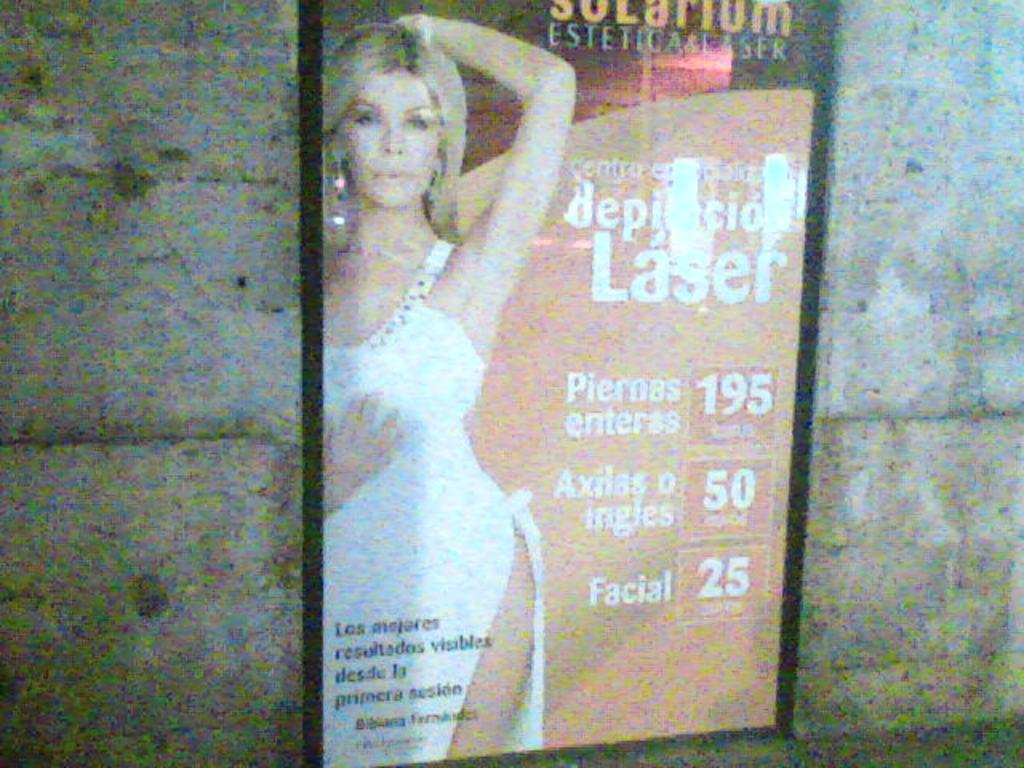Sem Máscara: (328, 56, 443, 204)
